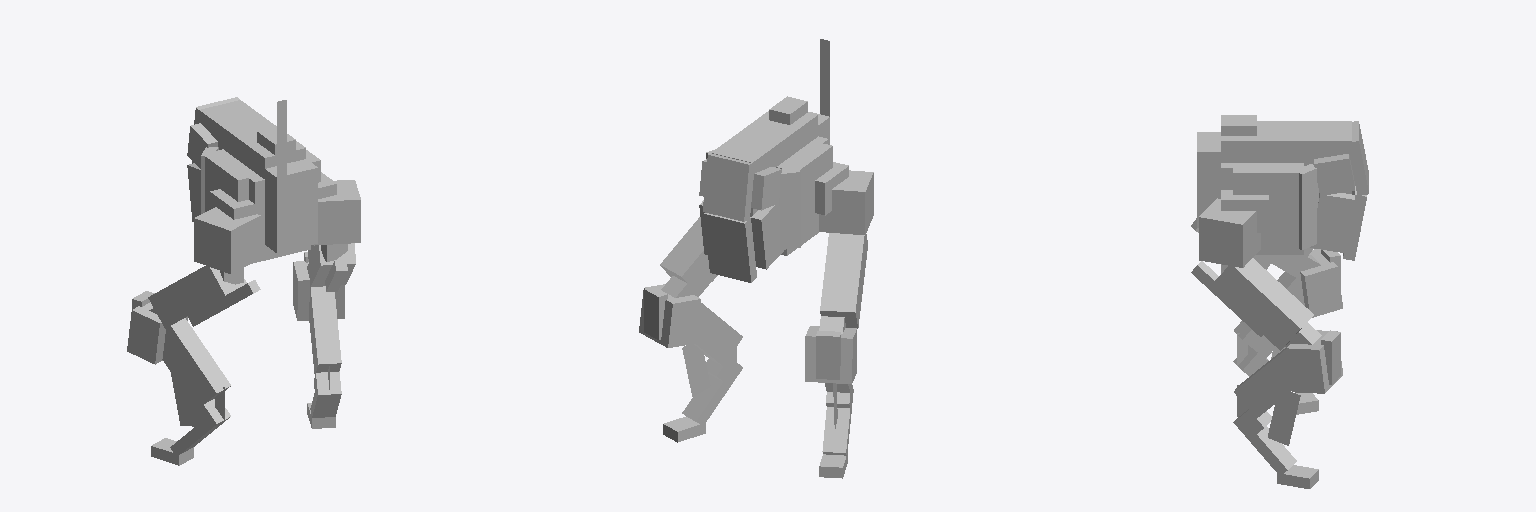
Rendered from walker.obj.
3 renders of one model, left to right at view 1: azimuth 30°, elevation 25°; view 2: azimuth 150°, elevation 25°; view 3: azimuth 270°, elevation 25°, orthographic.
Parts seen in each view (by area): view 1: 920cd43c-1093-fbbd-1691-e86b12c9fd4d_Mesh_21, 5b1e80dc-ed92-b09f-93fa-8f132198c118_Mesh_12, c4bdf34e-35a0-f0c0-fde0-a389957ba872_Mesh_44, e[number redacted]-5611-3d68-647e-37b758855c70_Mesh_41, c192d818-0159-b815-c810-d3e8a6d2c697_Mesh_23, a[number redacted]-9994-3a46-cd47-633b6734f80f_Mesh_10, 750e1c07-e028-7c0a-5f7e-af6f3006ee05_Mesh_33, 6f5bfcd8-ef09-8a53-ec93-74d05aa10747_Mesh_45, 0edbd0b9-594d-66d4-b5f6-4e2a02495a60_Mesh_18, 403252c4-044c-f4f8-aff6-ddbcda16f9e6_Mesh_24, 023e9d1f-ef8e-aed8-462c-2b01b4aa78a1_Mesh_35, b7eefde3-fcce-4592-f0a2-0383a178c3a8_Mesh_30 (+9 smaller); view 2: e[number redacted]-5611-3d68-647e-37b758855c70_Mesh_41, 9ee8ceb0-480d-3e11-c026-151566cf1b92_Mesh_1, 39a27cea-01af-a97c-79fb-6bd8a9f313dd_Mesh_2, 5b1e80dc-ed92-b09f-93fa-8f132198c118_Mesh_12, c192d818-0159-b815-c810-d3e8a6d2c697_Mesh_23, b7eefde3-fcce-4592-f0a2-0383a178c3a8_Mesh_30, 023e9d1f-ef8e-aed8-462c-2b01b4aa78a1_Mesh_35, 0edbd0b9-594d-66d4-b5f6-4e2a02495a60_Mesh_18, 502ed052-afd2-69da-e85f-e1b0b434ed94_Mesh_26, 750e1c07-e028-7c0a-5f7e-af6f3006ee05_Mesh_33, 6f5bfcd8-ef09-8a53-ec93-74d05aa10747_Mesh_45, 5d5892ef-5fad-20b1-f642-efec75b7fc86_Mesh_3 (+12 smaller); view 3: b7eefde3-fcce-4592-f0a2-0383a178c3a8_Mesh_30, c893c897-1268-a954-10f2-7a0ae2fa3498_Mesh_19, c192d818-0159-b815-c810-d3e8a6d2c697_Mesh_23, a[number redacted]-9994-3a46-cd47-633b6734f80f_Mesh_10, 750e1c07-e028-7c0a-5f7e-af6f3006ee05_Mesh_33, 023e9d1f-ef8e-aed8-462c-2b01b4aa78a1_Mesh_35, 68cb4308-70bd-d641-0310-e8c[number redacted]b_Mesh_6, 6f5bfcd8-ef09-8a53-ec93-74d05aa10747_Mesh_45, 920cd43c-1093-fbbd-1691-e86b12c9fd4d_Mesh_21, c87d3a3b-0620-3241-d450-13a73b7fe5ea_Mesh_16, 34d6529d-69b0-29b1-f46a-65fa094b50fa_Mesh_36, aa81b925-811a-988e-9ff9-115bfb596710_Mesh_0 (+11 smaller).
Boxes of the visible parts, x1,y1,x2,y2 form: 920cd43c-1093-fbbd-1691-e86b12c9fd4d_Mesh_21: [265, 159, 317, 252]; 5b1e80dc-ed92-b09f-93fa-8f132198c118_Mesh_12: [194, 207, 260, 273]; c4bdf34e-35a0-f0c0-fde0-a389957ba872_Mesh_44: [162, 318, 230, 409]; e[number redacted]-5611-3d68-647e-37b758855c70_Mesh_41: [148, 266, 246, 328]; c192d818-0159-b815-c810-d3e8a6d2c697_Mesh_23: [217, 113, 305, 178]; a[number redacted]-9994-3a46-cd47-633b6734f80f_Mesh_10: [314, 180, 360, 245]; 750e1c07-e028-7c0a-5f7e-af6f3006ee05_Mesh_33: [309, 286, 341, 373]; 6f5bfcd8-ef09-8a53-ec93-74d05aa10747_Mesh_45: [127, 302, 187, 364]; 0edbd0b9-594d-66d4-b5f6-4e2a02495a60_Mesh_18: [203, 152, 248, 211]; 403252c4-044c-f4f8-aff6-ddbcda16f9e6_Mesh_24: [210, 172, 336, 234]; 023e9d1f-ef8e-aed8-462c-2b01b4aa78a1_Mesh_35: [293, 261, 344, 320]; b7eefde3-fcce-4592-f0a2-0383a178c3a8_Mesh_30: [308, 243, 355, 286]; e[number redacted]-5611-3d68-647e-37b758855c70_Mesh_41: [820, 233, 867, 328]; 9ee8ceb0-480d-3e11-c026-151566cf1b92_Mesh_1: [704, 213, 756, 282]; 39a27cea-01af-a97c-79fb-6bd8a9f313dd_Mesh_2: [703, 153, 754, 221]; 5b1e80dc-ed92-b09f-93fa-8f132198c118_Mesh_12: [819, 170, 873, 234]; c192d818-0159-b815-c810-d3e8a6d2c697_Mesh_23: [729, 111, 817, 166]; b7eefde3-fcce-4592-f0a2-0383a178c3a8_Mesh_30: [660, 217, 716, 295]; 023e9d1f-ef8e-aed8-462c-2b01b4aa78a1_Mesh_35: [639, 284, 700, 347]; 0edbd0b9-594d-66d4-b5f6-4e2a02495a60_Mesh_18: [790, 143, 832, 244]; 502ed052-afd2-69da-e85f-e1b0b434ed94_Mesh_26: [779, 167, 800, 249]; 750e1c07-e028-7c0a-5f7e-af6f3006ee05_Mesh_33: [694, 303, 742, 365]; 6f5bfcd8-ef09-8a53-ec93-74d05aa10747_Mesh_45: [805, 326, 856, 383]; 5d5892ef-5fad-20b1-f642-efec75b7fc86_Mesh_3: [751, 204, 783, 269]; b7eefde3-fcce-4592-f0a2-0383a178c3a8_Mesh_30: [1211, 258, 1313, 350]; c893c897-1268-a954-10f2-7a0ae2fa3498_Mesh_19: [1233, 168, 1303, 248]; c192d818-0159-b815-c810-d3e8a6d2c697_Mesh_23: [1221, 121, 1315, 162]; a[number redacted]-9994-3a46-cd47-633b6734f80f_Mesh_10: [1199, 198, 1260, 267]; 750e1c07-e028-7c0a-5f7e-af6f3006ee05_Mesh_33: [1234, 348, 1291, 418]; 023e9d1f-ef8e-aed8-462c-2b01b4aa78a1_Mesh_35: [1287, 330, 1342, 393]; 68cb4308-70bd-d641-0310-e8c[number redacted]b_Mesh_6: [1310, 193, 1354, 252]; 6f5bfcd8-ef09-8a53-ec93-74d05aa10747_Mesh_45: [1300, 249, 1342, 317]; 920cd43c-1093-fbbd-1691-e86b12c9fd4d_Mesh_21: [1197, 132, 1220, 227]; c87d3a3b-0620-3241-d450-13a73b7fe5ea_Mesh_16: [1295, 164, 1318, 249]; 34d6529d-69b0-29b1-f46a-65fa094b50fa_Mesh_36: [1233, 412, 1296, 473]; aa81b925-811a-988e-9ff9-115bfb596710_Mesh_0: [1316, 121, 1351, 161].
Bounding box in the file's own units: 1.29 × 2.19 × 0.9338.